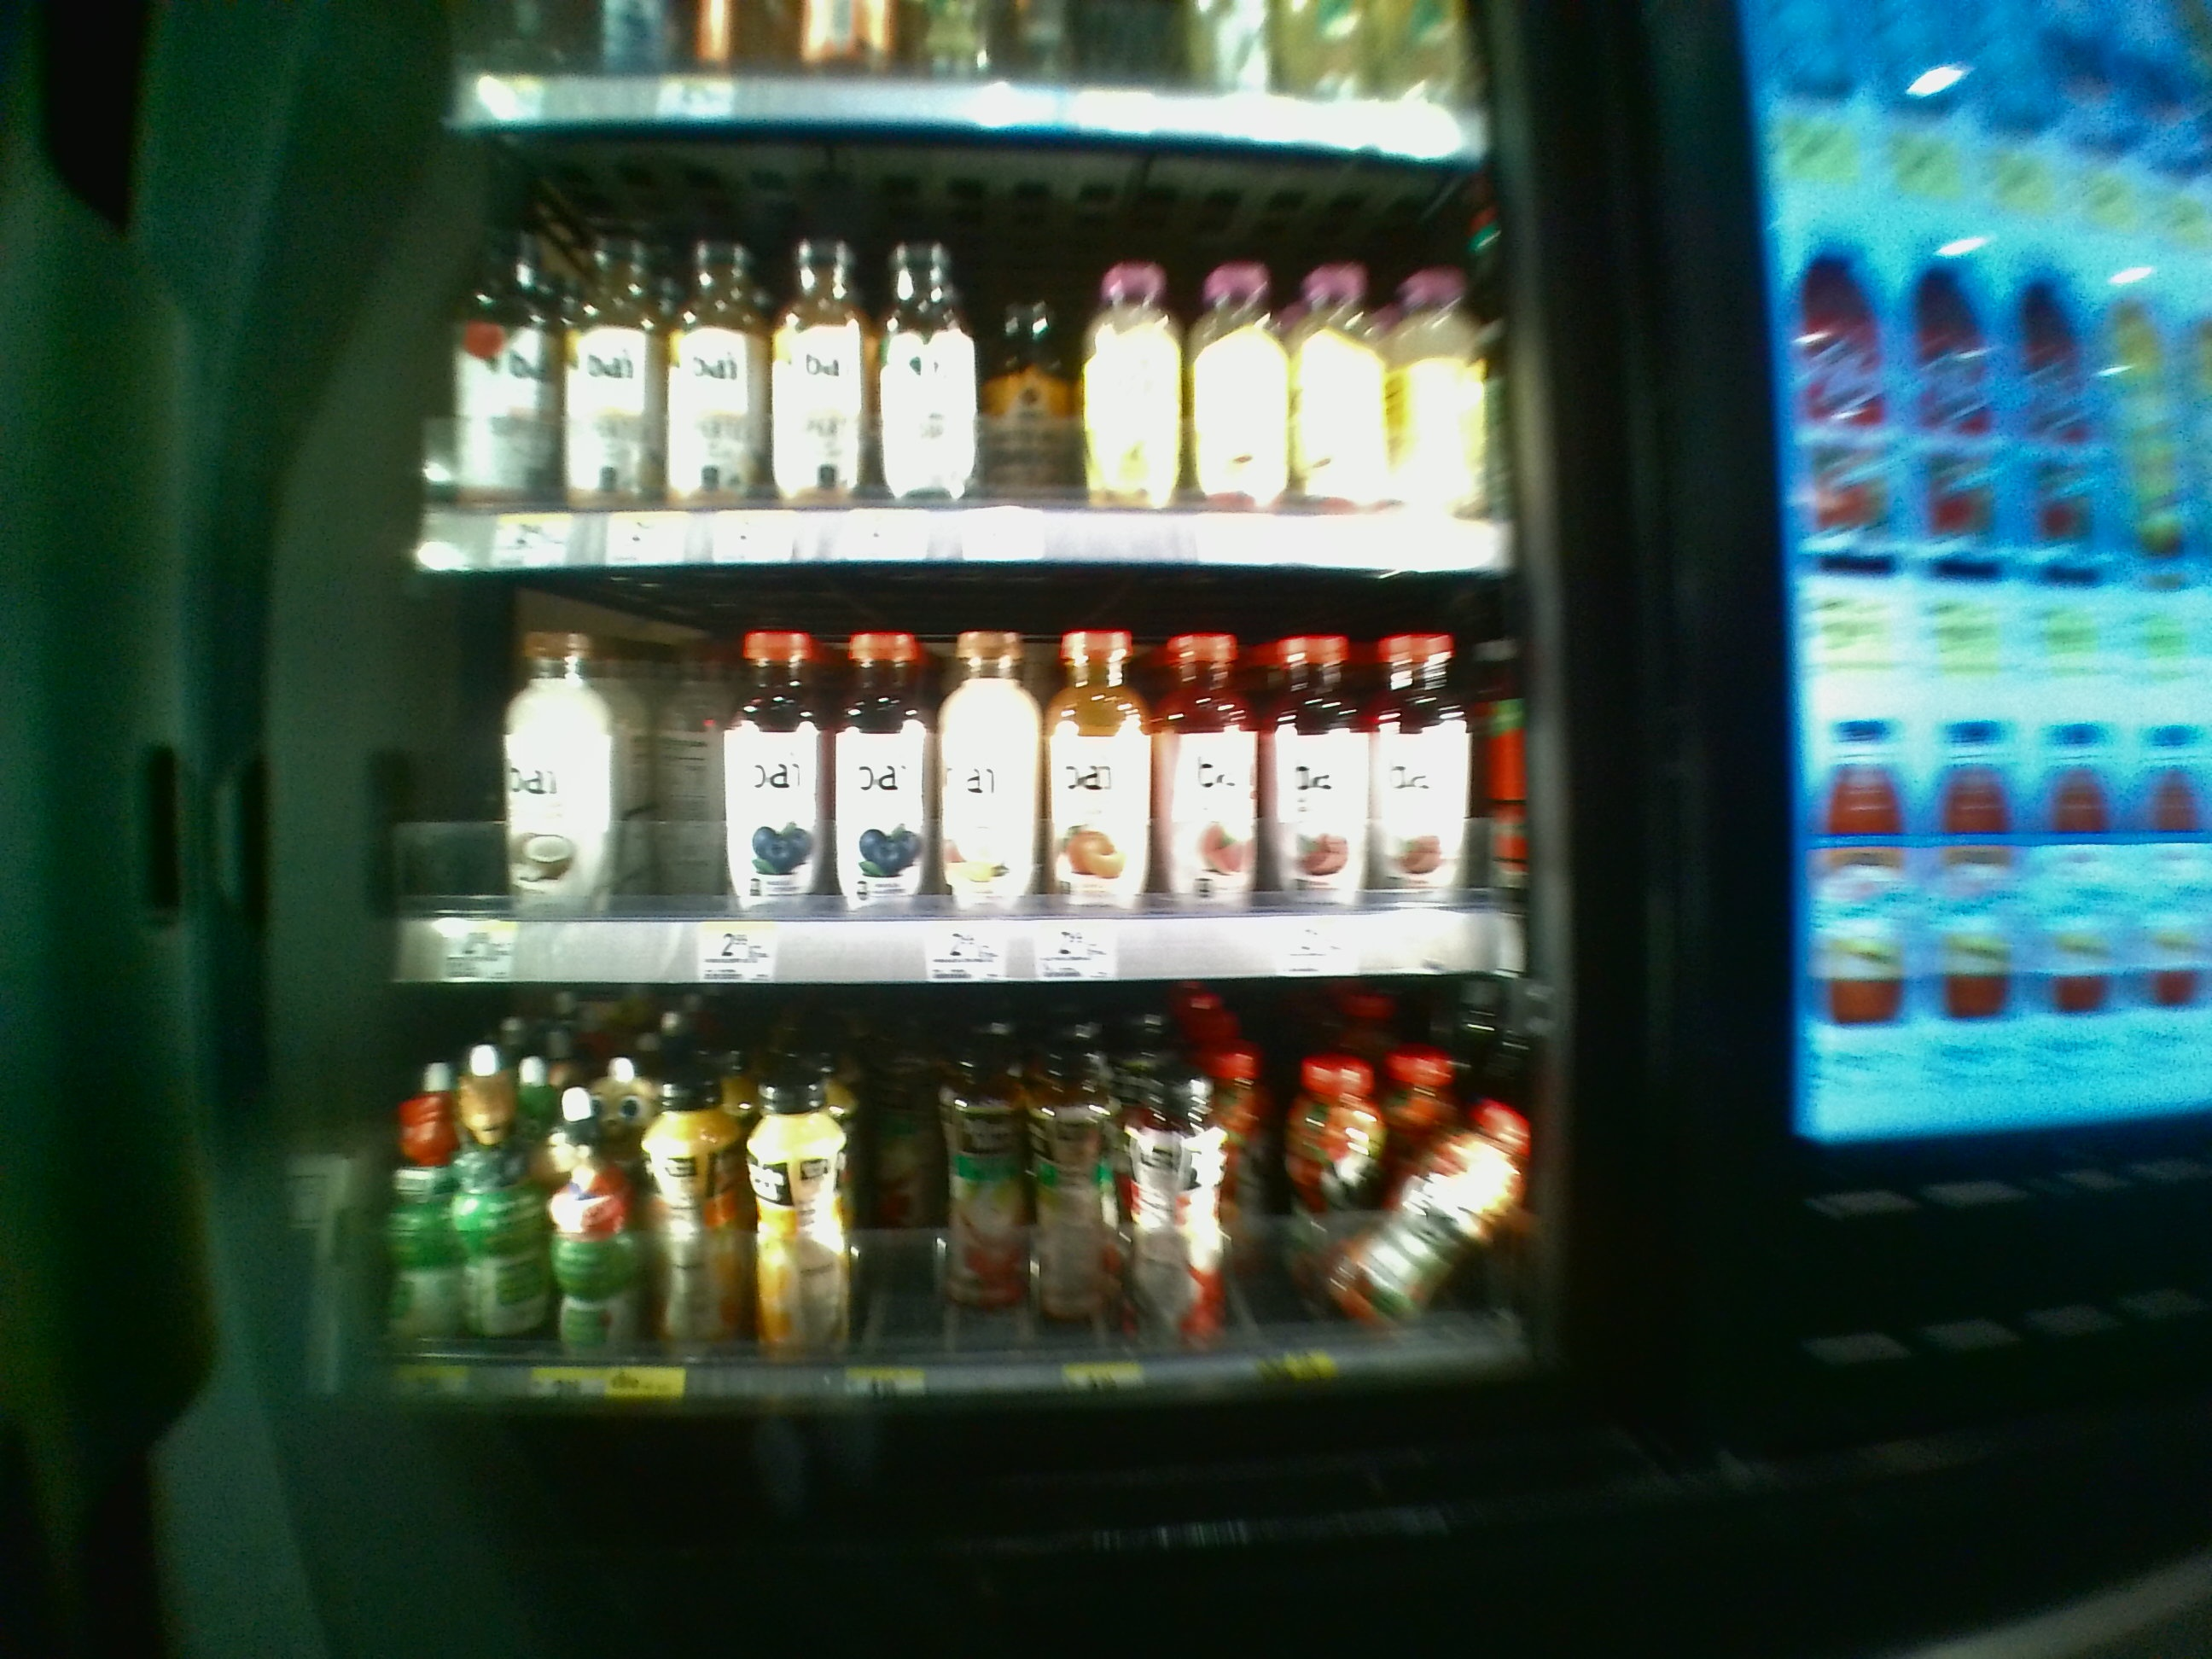shelf: (394, 129, 1503, 568), (387, 1000, 1538, 1405), (392, 592, 1529, 983)
